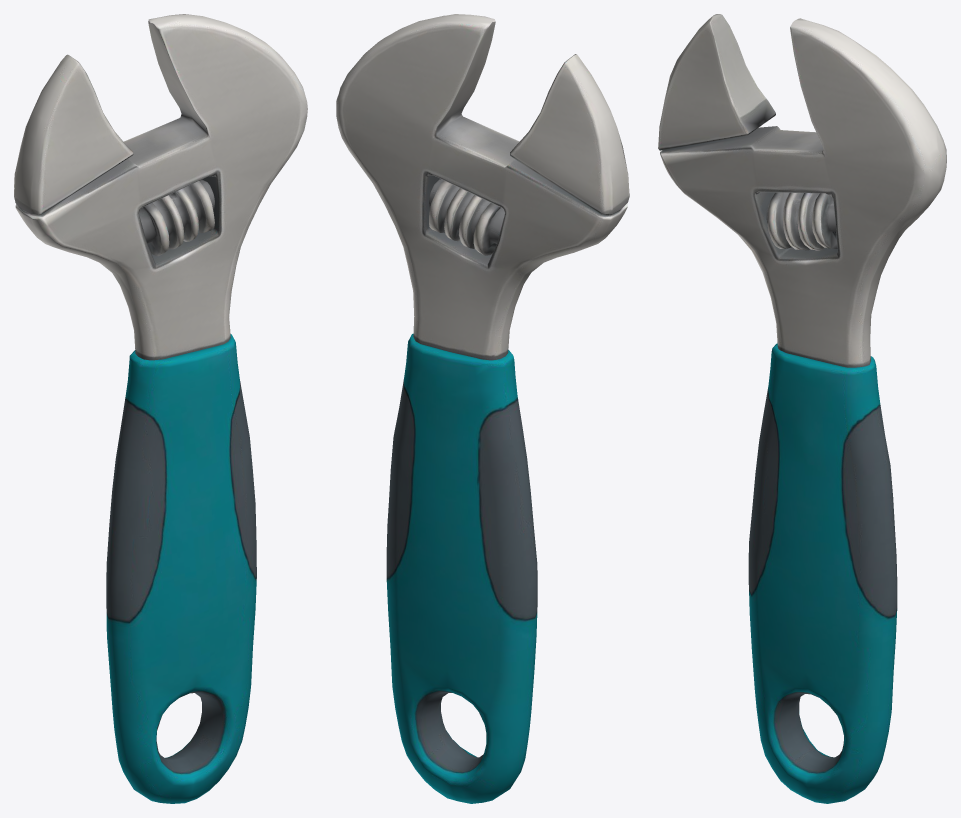
File: repair-tool.glb
The picture shows the model from 3 angles, left to right: view 1: azimuth 30°, elevation 25°; view 2: azimuth 150°, elevation 25°; view 3: azimuth 330°, elevation 25°; orthographic projection.
Parts seen in each view (by area): view 1: repair-tool; view 2: repair-tool; view 3: repair-tool.
Part boxes in pixels (x1,y1,x2,y2): repair-tool: [14, 14, 307, 803]; repair-tool: [336, 14, 629, 803]; repair-tool: [658, 14, 946, 803].
Size of the model in its own units: 0.123 by 0.33 by 0.0295.
1 material, 1 textured.
